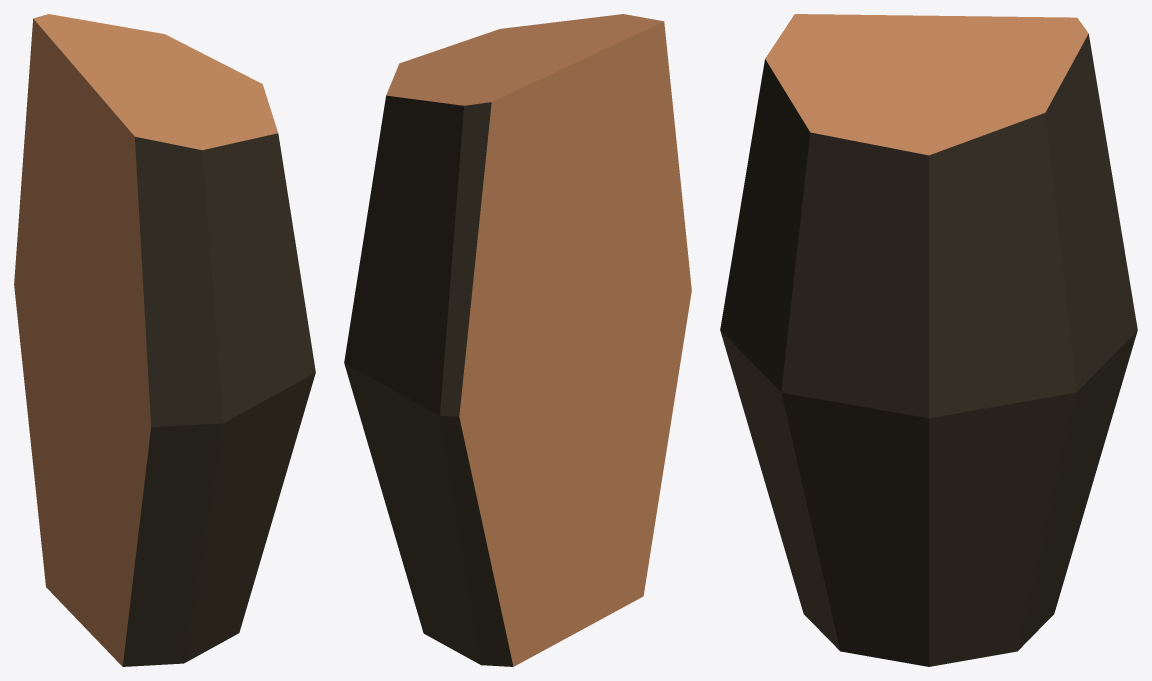
Rendered from vase_tall_01_shard_3.glb.
The picture shows the model from 3 angles, left to right: view 1: azimuth 30°, elevation 25°; view 2: azimuth 150°, elevation 25°; view 3: azimuth 270°, elevation 25°; orthographic projection. The views are drawn at different scales.
Parts seen in each view (by area): view 1: vase_tall_01_shard_3; view 2: vase_tall_01_shard_3; view 3: vase_tall_01_shard_3.
Part boxes in pixels (x1=…): vase_tall_01_shard_3: x1=14, y1=14, x2=315, y2=666; vase_tall_01_shard_3: x1=344, y1=14, x2=691, y2=666; vase_tall_01_shard_3: x1=720, y1=14, x2=1137, y2=666.
Bounding box in the file's own units: 0.2682 × 0.6188 × 0.4.
2 materials, 1 textured.
